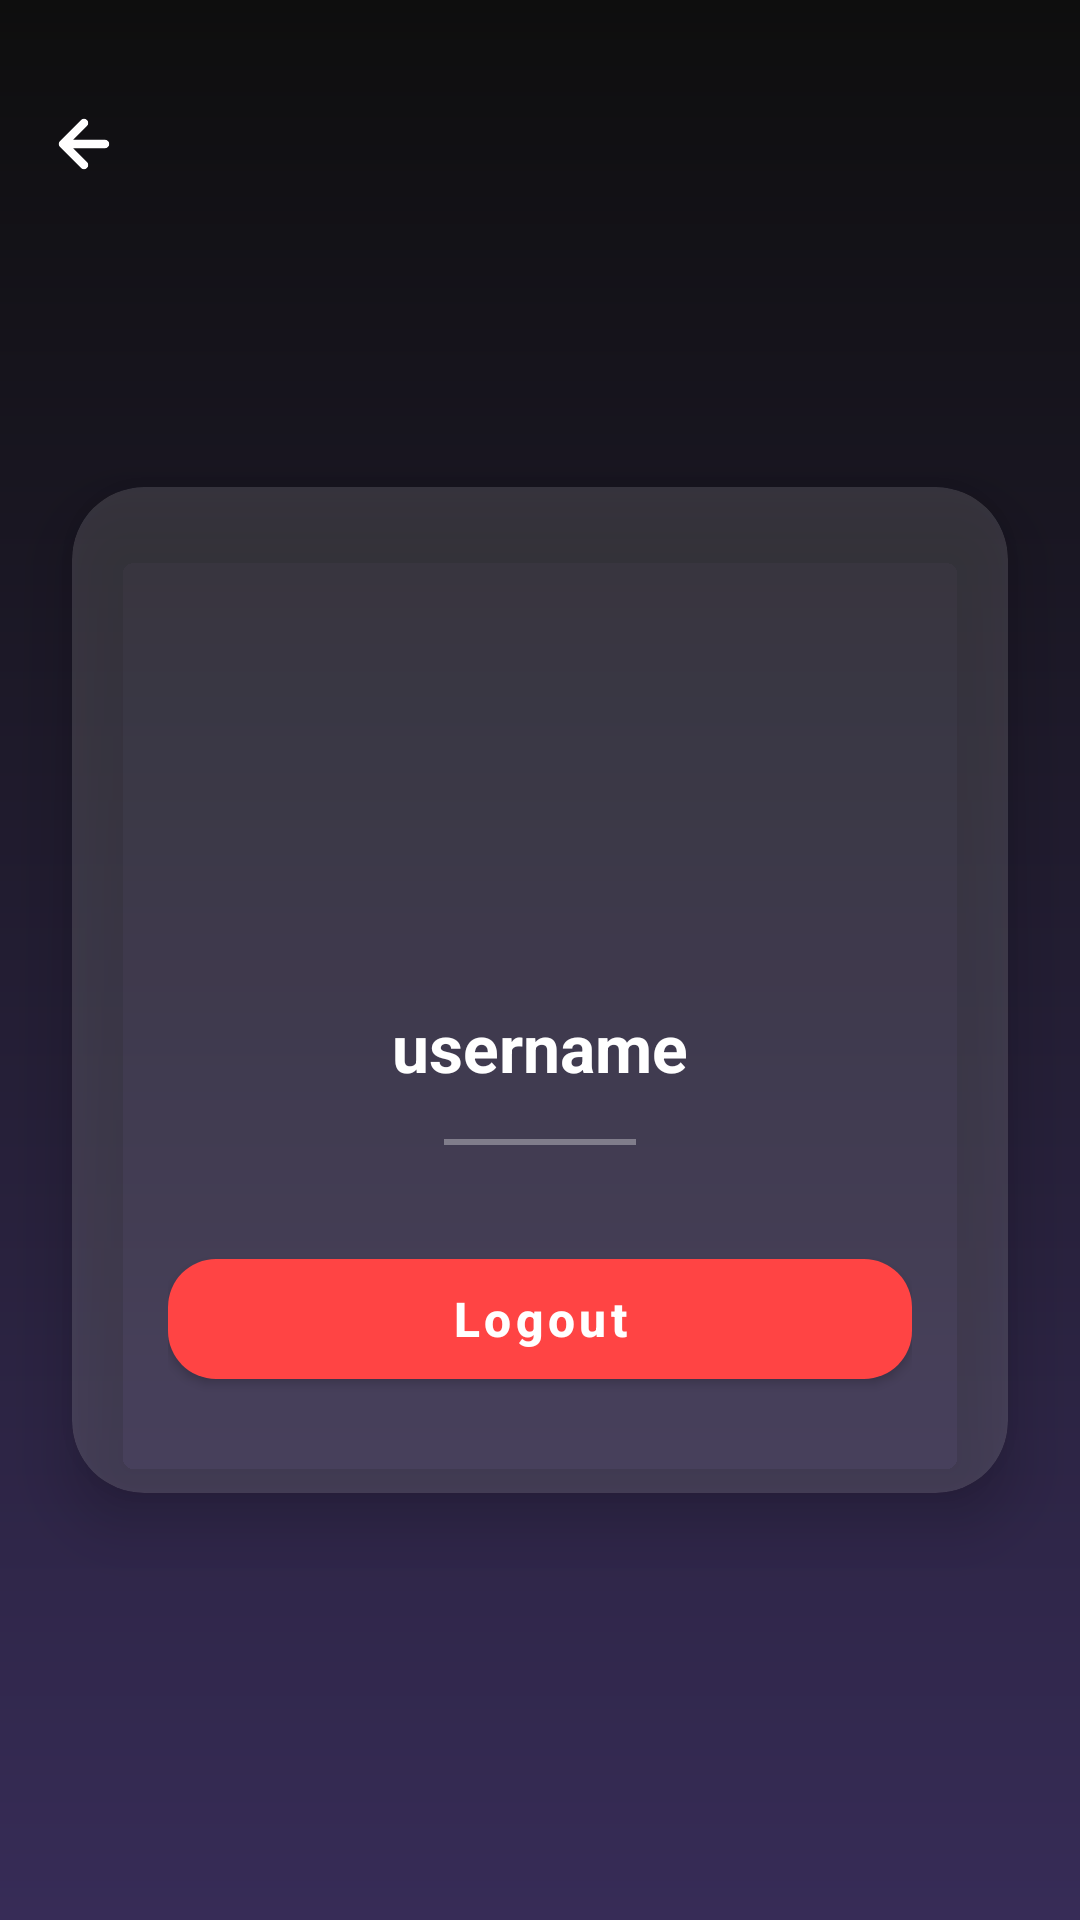

Icon click points for this 1080px x 1920px phone screenshot, format (x=x, y=y):
arrow back: (x=83, y=144)
